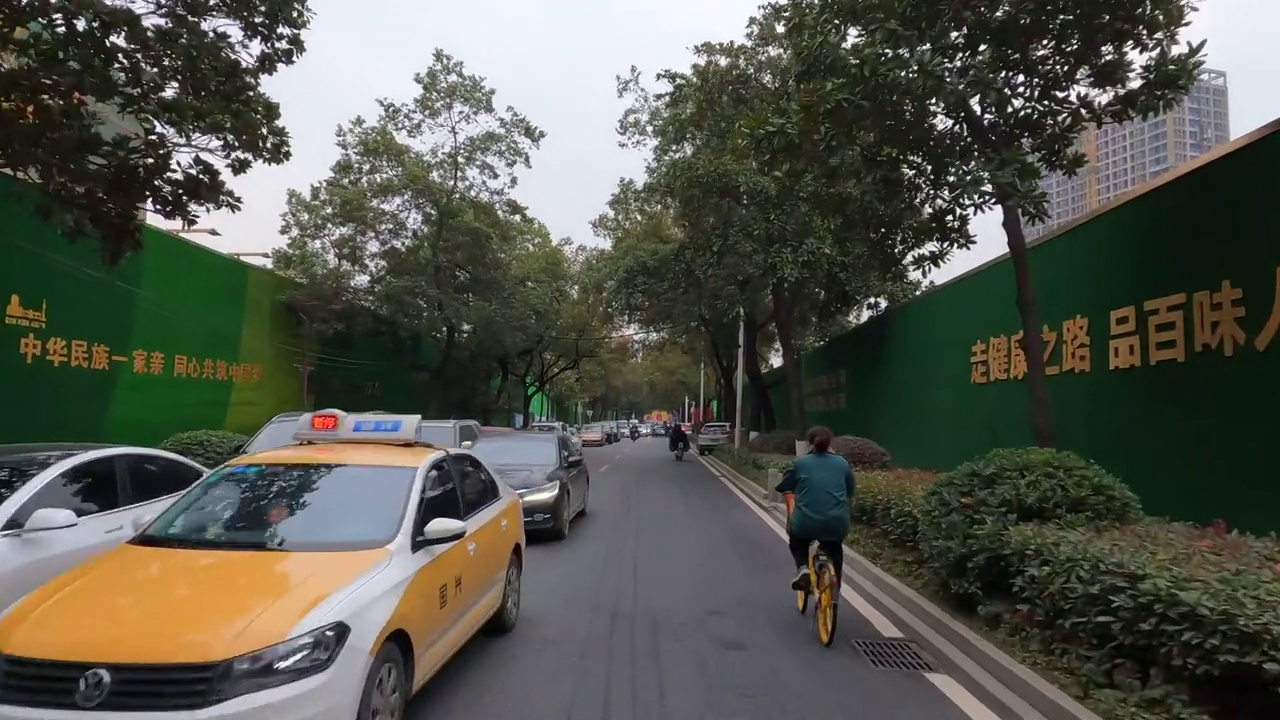lane: (850, 592, 983, 714), (689, 451, 785, 539)
